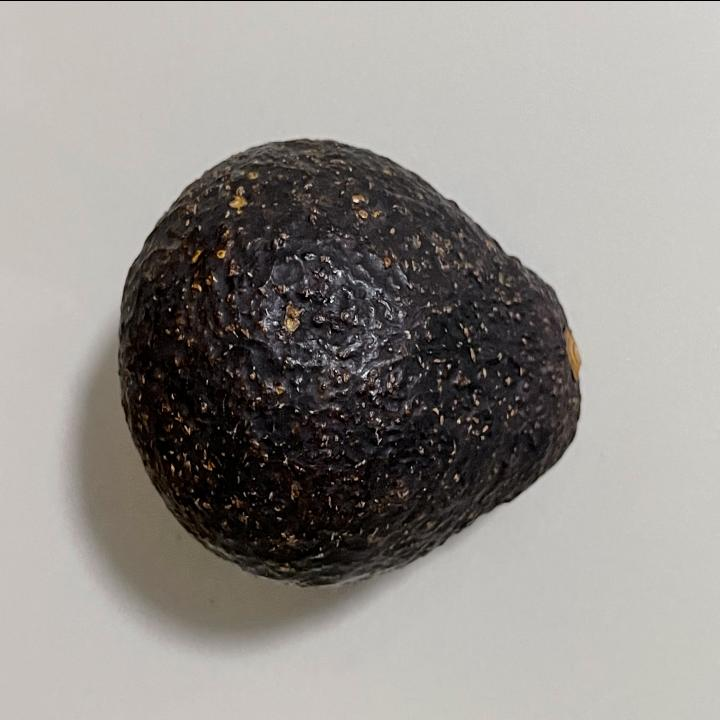Level3: (112, 124, 594, 602)
